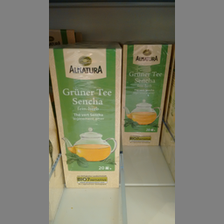tea: (50, 43, 123, 187), (123, 41, 172, 146)
